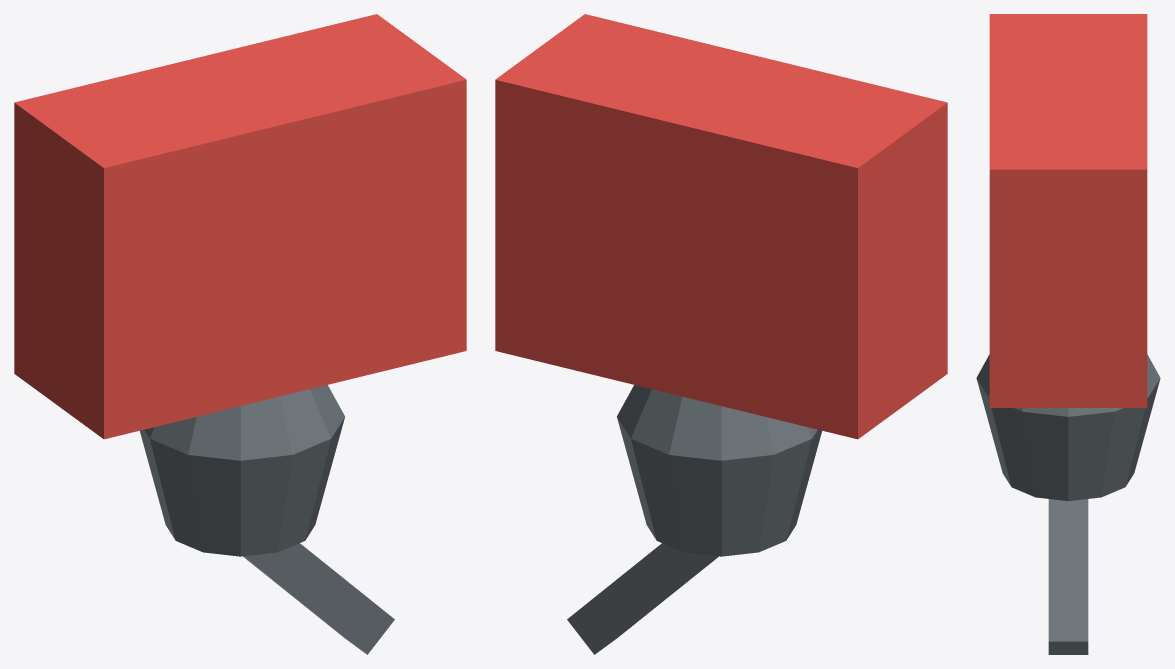
Rendered from pad_crane_hook.fbx.
3 renders of one model, left to right at view 1: azimuth 30°, elevation 25°; view 2: azimuth 150°, elevation 25°; view 3: azimuth 270°, elevation 25°, orthographic. The views are drawn at different scales.
Parts seen in each view (by area): view 1: pad_crane_hook; view 2: pad_crane_hook; view 3: pad_crane_hook.
Part boxes in pixels (left/top/right/bottom): pad_crane_hook: left=14, top=14, right=466, bottom=654; pad_crane_hook: left=495, top=14, right=947, bottom=654; pad_crane_hook: left=976, top=14, right=1160, bottom=654.
Size of the model in its own units: 1.4 by 2.15 by 0.7.
